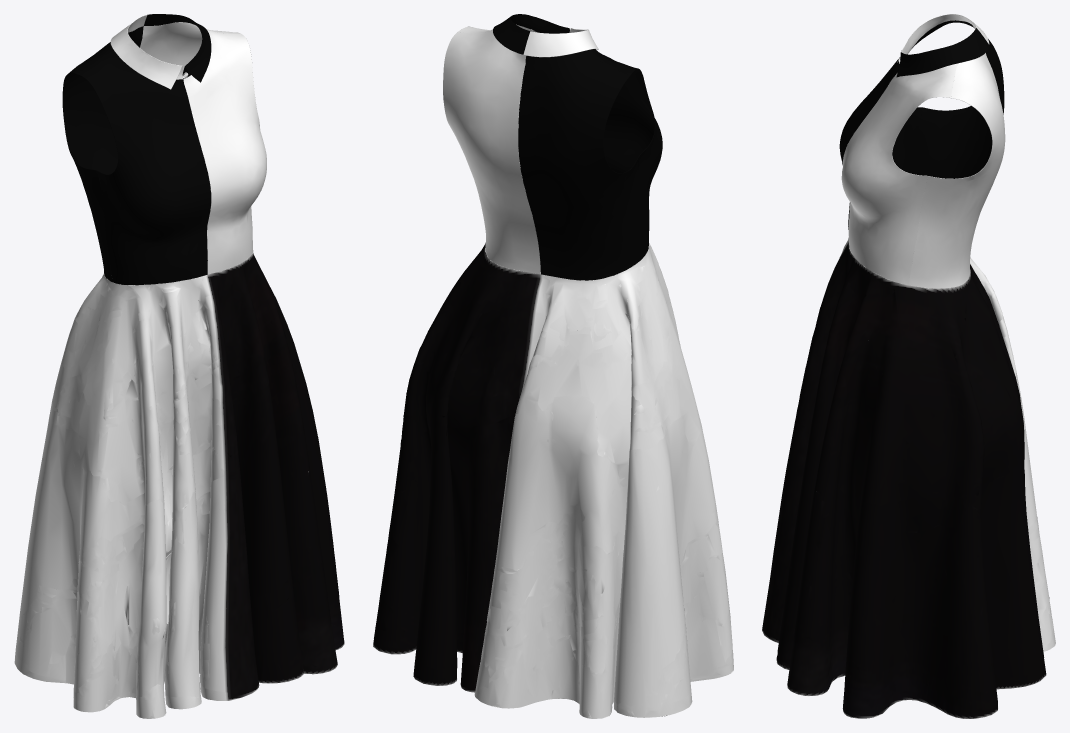
File: Vestido 3.fbx
3 views of the same model, side by side, from view 1: azimuth 30°, elevation 25°; view 2: azimuth 150°, elevation 25°; view 3: azimuth 270°, elevation 25° (orthographic). The views are drawn at different scales.
Bounding box in the file's own units: 42.71 × 89.59 × 37.89.
20 materials, 1 textured.
